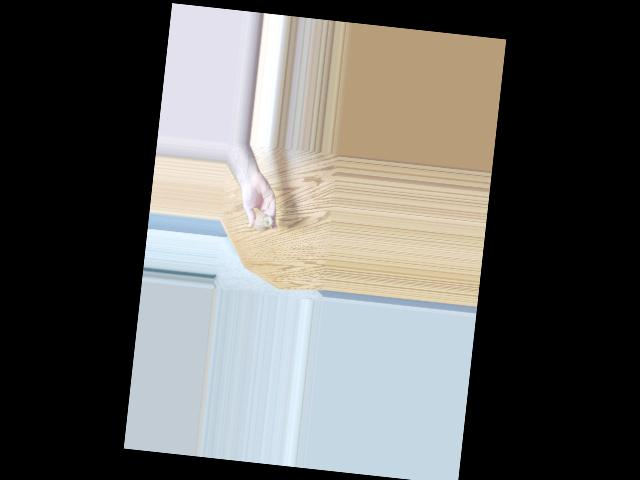sweet_potato: (252, 213, 272, 233)
